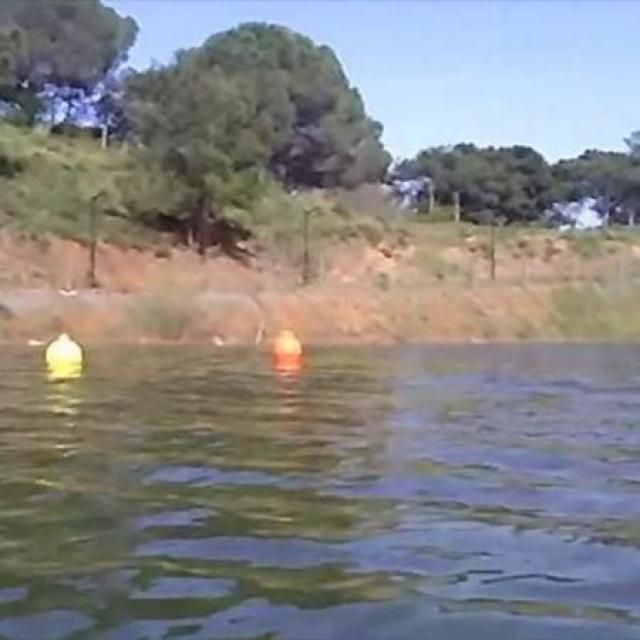buoy: (46, 333, 86, 370), (272, 330, 302, 365)
